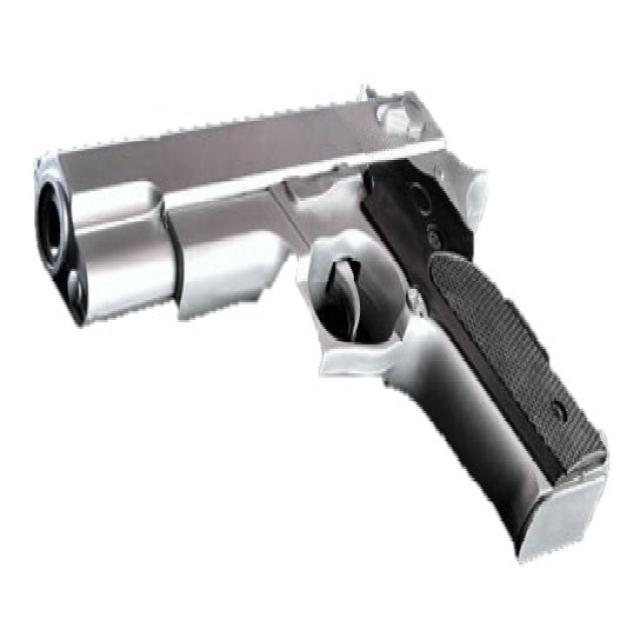pistol: (28, 74, 616, 575)
